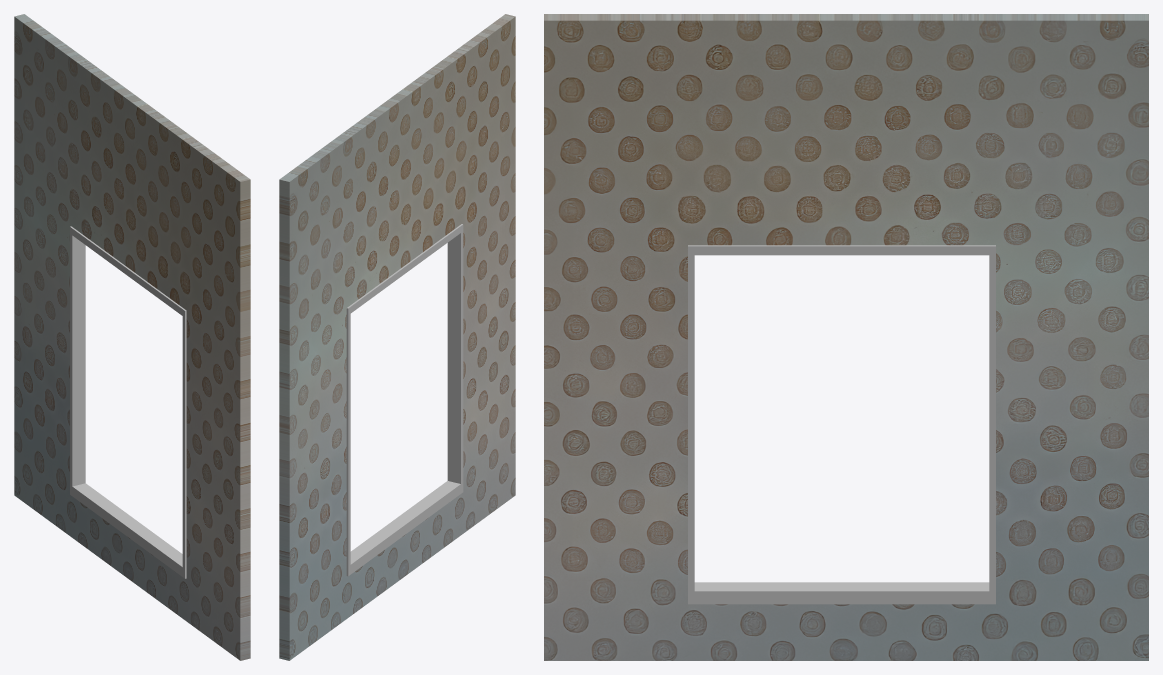
File: SM_WallPaper01I.fbx
3 renders of one model, left to right at view 1: azimuth 30°, elevation 25°; view 2: azimuth 150°, elevation 25°; view 3: azimuth 270°, elevation 25°, orthographic. The views are drawn at different scales.
Parts seen in each view (by area): view 1: SM_WallPaper01I; view 2: SM_WallPaper01I; view 3: SM_WallPaper01I.
Boxes of the visible parts, left/top/right/bottom form: SM_WallPaper01I: left=14, top=14, right=250, bottom=660; SM_WallPaper01I: left=279, top=14, right=515, bottom=660; SM_WallPaper01I: left=544, top=14, right=1148, bottom=660.
Size of the model in its own units: 8.99 by 262 by 307.
